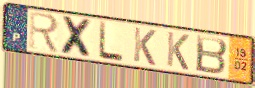B: (194, 33, 229, 76)
K: (131, 25, 158, 68), (165, 30, 191, 72)
L: (98, 20, 125, 64)
R: (28, 10, 61, 56)
X: (60, 14, 95, 61)
